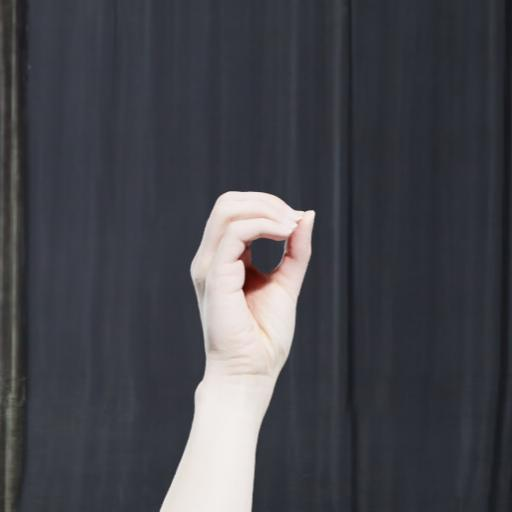O: (177, 179, 327, 512)
